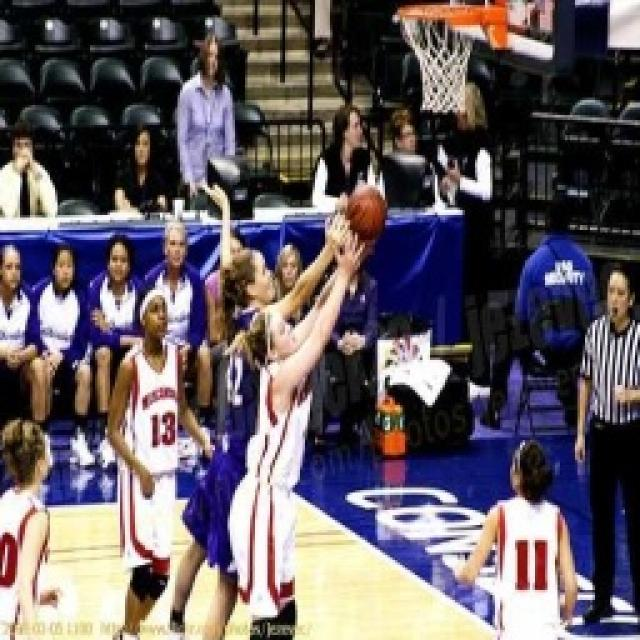rim: (340, 178, 392, 244)
